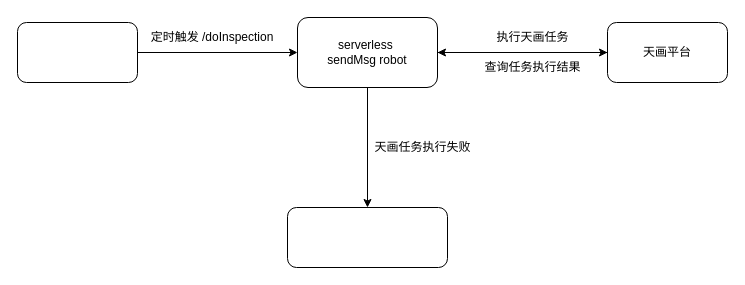
This 745x285 diagram has some shape labels left out. Each missing label, with the centre of its shape:
"sendDataToRobot 向钉钉机器人发送消息" goes at (367,237).
"任务调度平台" goes at (77,52).
